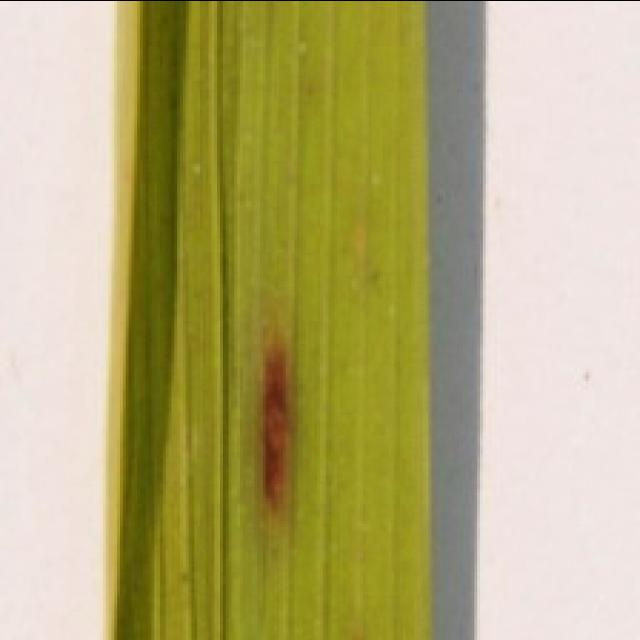Unhealthy: (254, 347, 304, 519)
